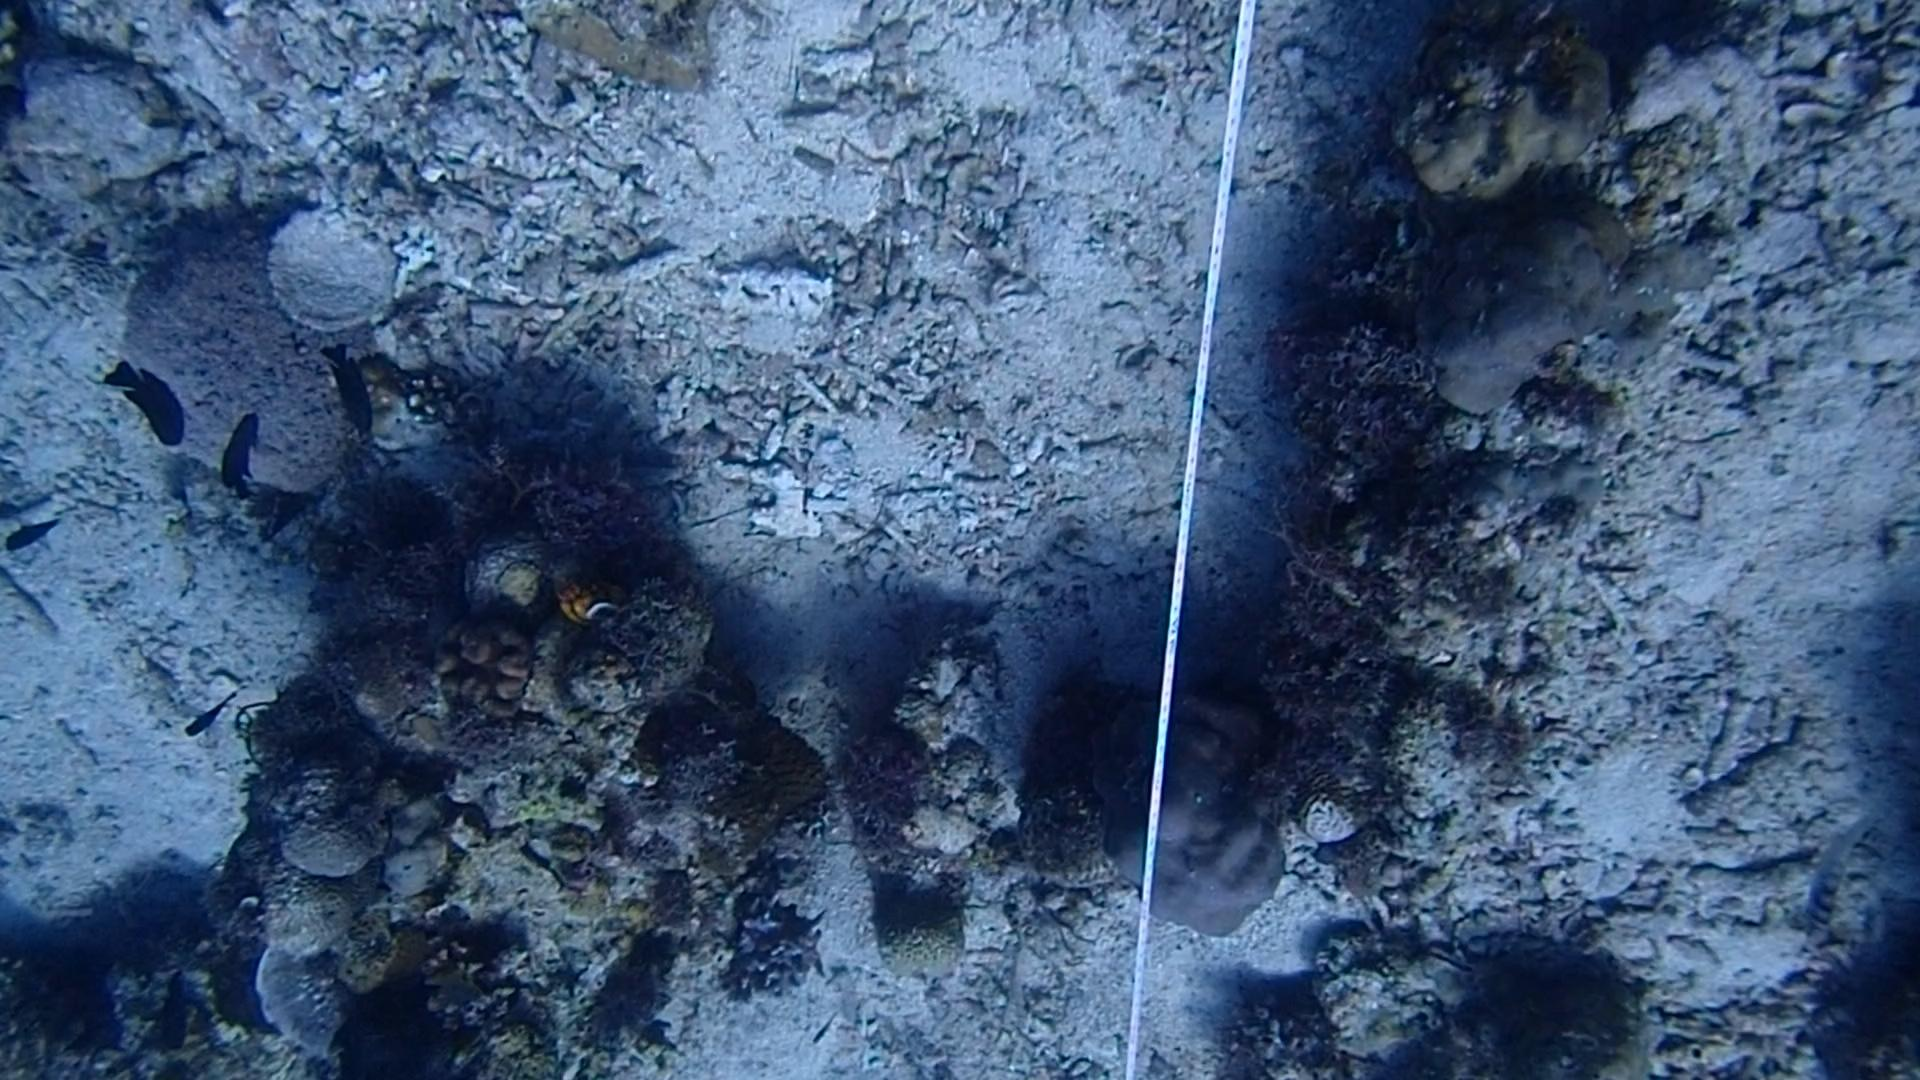Dark Fish: (100, 343, 194, 464), (313, 339, 394, 446), (207, 415, 289, 512), (170, 676, 247, 762), (0, 505, 78, 576), (160, 964, 203, 1059)
Light Fish w Back Stripes: (1789, 827, 1884, 948)
